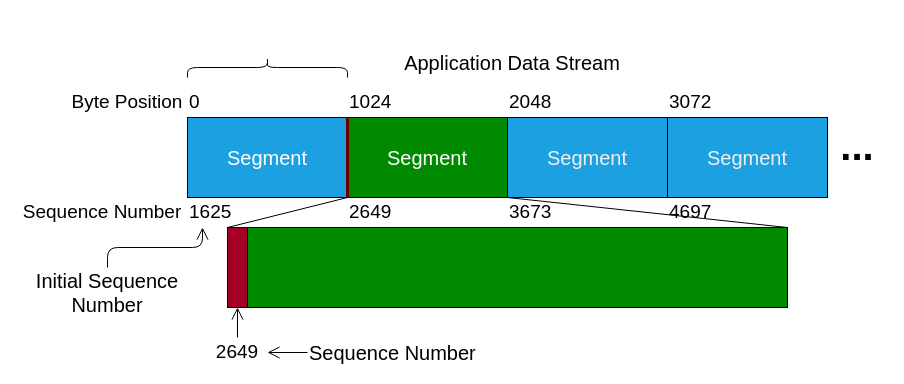
Some shapes in this 904 by 384 pixel diagram are drawn without their labels. The centre of each missing label's shape, as x and y in pixels:
"byte" belongs at point (237, 267).
"MSS" belongs at point (267, 67).
